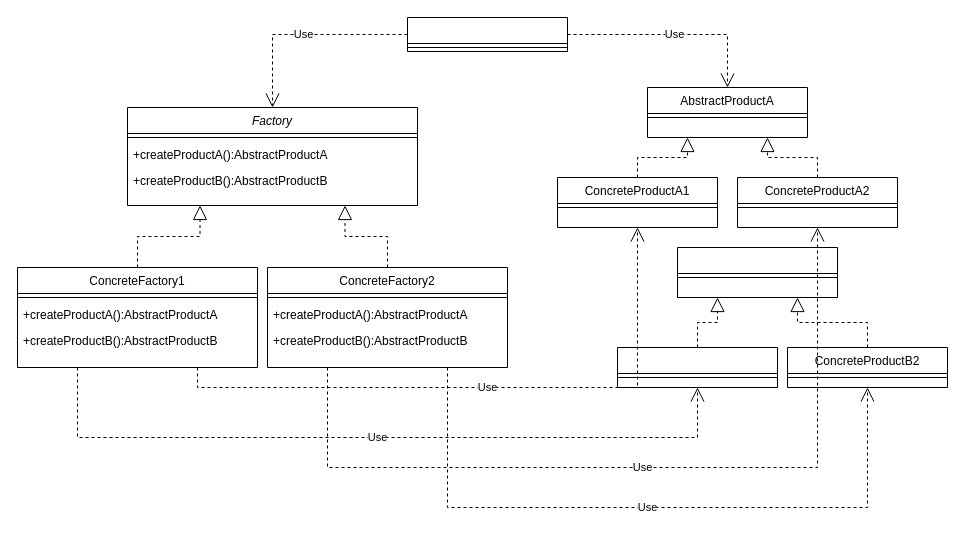
Image size: 965x539. Some labels were removed from this diagram. The shapes that lost their labels are listed below. From the top down, each one's centre as x and y in pixels, then its label:
At (487,34): "Client".
At (757,272): "AbstractProductB".
At (697,367): "ConcreteProductB1".
